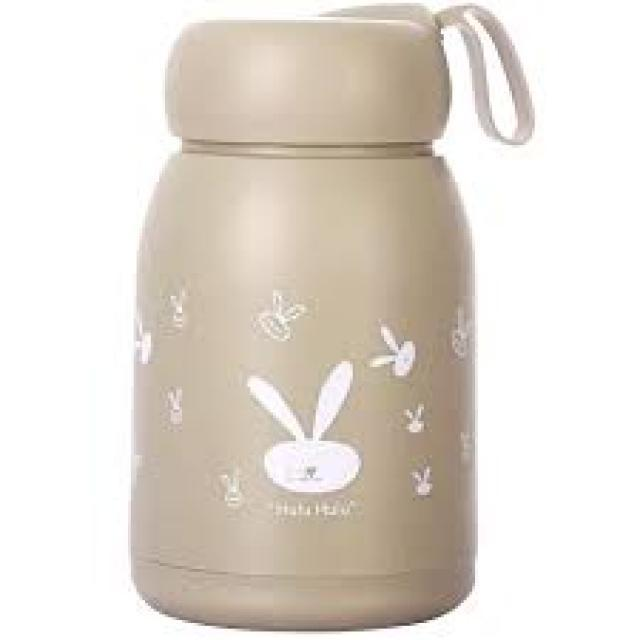sise: (116, 0, 524, 636)
